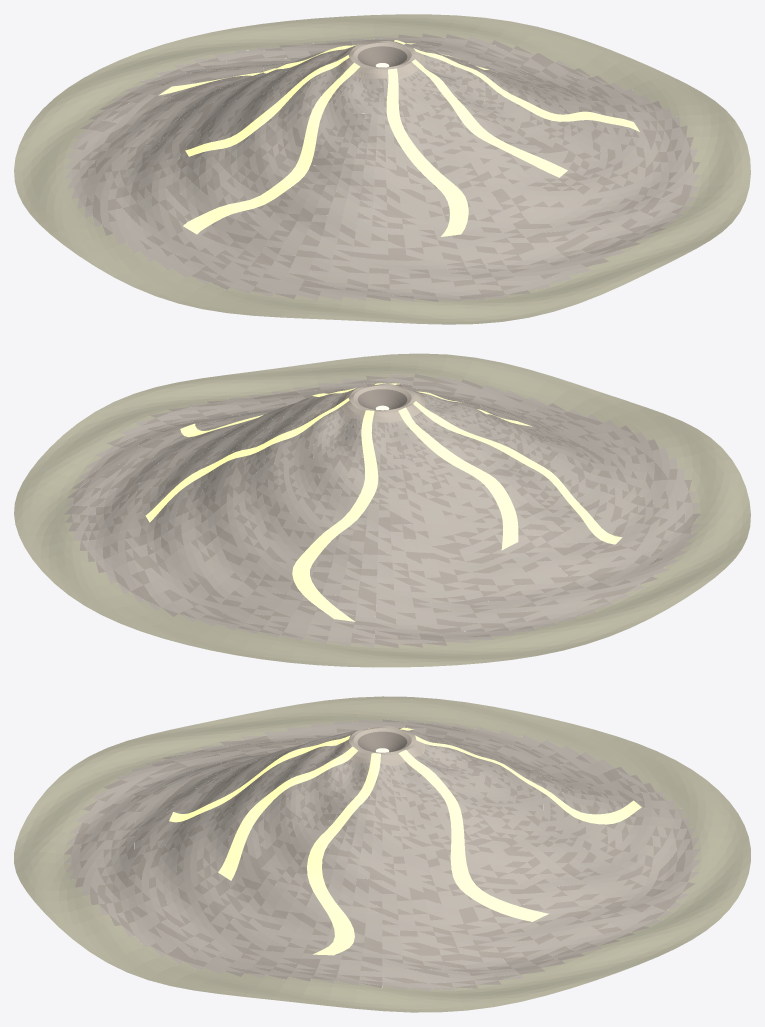
File: javakheti-lod1.glb
The picture shows the model from 3 angles, top to bottom: view 1: azimuth 30°, elevation 25°; view 2: azimuth 150°, elevation 25°; view 3: azimuth 270°, elevation 25°; orthographic projection.
Visible parts, largest first — view 1: javakheti_cone, javakheti_ground, javakheti_coneDark, javakheti_lava, javakheti_rim, javakheti_crater; view 2: javakheti_cone, javakheti_ground, javakheti_coneDark, javakheti_lava, javakheti_rim, javakheti_crater; view 3: javakheti_cone, javakheti_ground, javakheti_coneDark, javakheti_lava, javakheti_rim, javakheti_crater.
Part boxes in pixels (left/top/right/bottom): javakheti_cone: left=64, top=36, right=700, bottom=301; javakheti_ground: left=14, top=14, right=750, bottom=324; javakheti_coneDark: left=72, top=33, right=700, bottom=301; javakheti_lava: left=159, top=40, right=639, bottom=236; javakheti_rim: left=340, top=41, right=425, bottom=79; javakheti_crater: left=357, top=46, right=407, bottom=66; javakheti_cone: left=64, top=374, right=700, bottom=647; javakheti_ground: left=14, top=353, right=750, bottom=667; javakheti_coneDark: left=64, top=373, right=700, bottom=648; javakheti_lava: left=145, top=383, right=622, bottom=621; javakheti_rim: left=340, top=383, right=425, bottom=422; javakheti_crater: left=357, top=389, right=407, bottom=409; javakheti_cone: left=64, top=719, right=700, bottom=991; javakheti_ground: left=14, top=696, right=750, bottom=1012; javakheti_coneDark: left=64, top=719, right=694, bottom=988; javakheti_lava: left=169, top=727, right=641, bottom=955; javakheti_rim: left=339, top=726, right=425, bottom=765; javakheti_crater: left=357, top=731, right=407, bottom=752.
Size of the model in its own units: 41.4 by 7.52 by 41.37.
